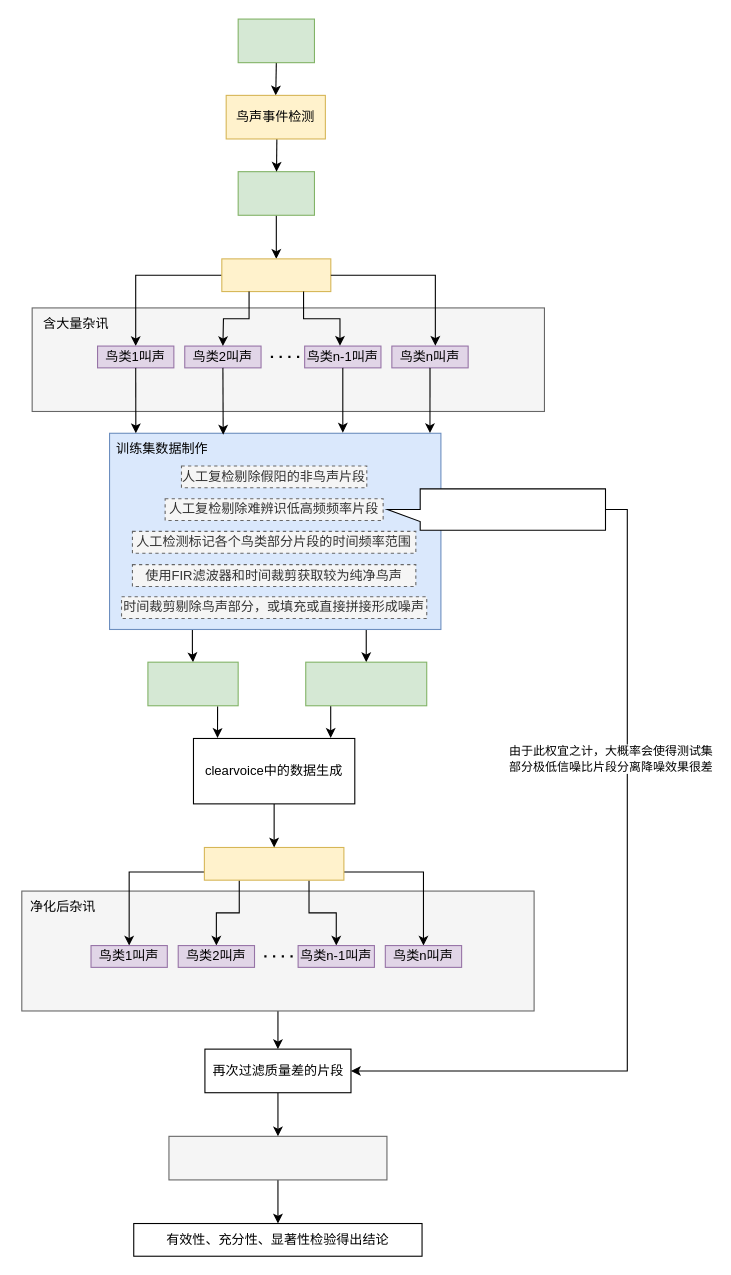
Image size: 731x1275. Some labels were removed from this diagram. Here are the shapes that lost their labels. From the top down, the centre of each, then its label:
At pixel 275 40: "录制".
At pixel 275 193: "含噪鸟声".
At pixel 276 275: "ECAPA-TDNN".
At pixel 495 509: "另对于识别效果较差的鸟种根据程度酌情剔除后续分析".
At pixel 192 683: "干净鸟声片段 (一般不等长)".
At pixel 366 683: "鸟声前后片段噪声 (一般不等长)".
At pixel 273 863: "MossFormer2分离噪声".
At pixel 277 1157: "采用能量阈值法等等在语谱图上 获取并绘制鸟声时频方框".
